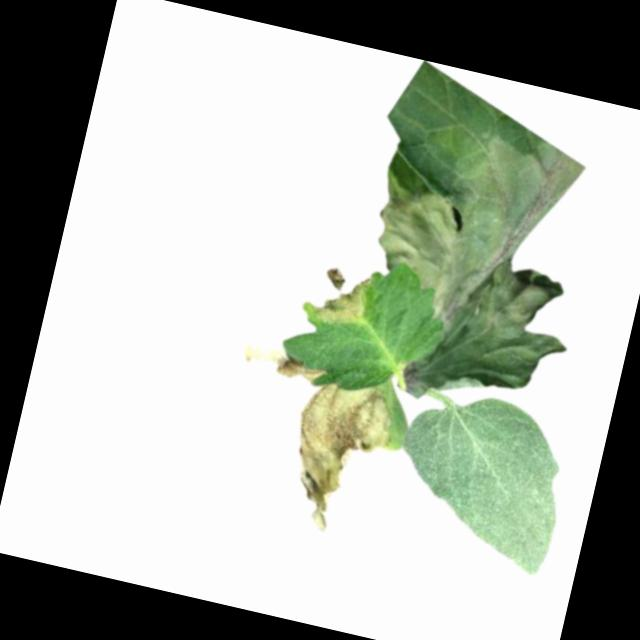Late_blight: (340, 101, 613, 425), (276, 378, 403, 544), (306, 260, 377, 333), (240, 338, 328, 387)
healthy: (382, 380, 581, 576)
